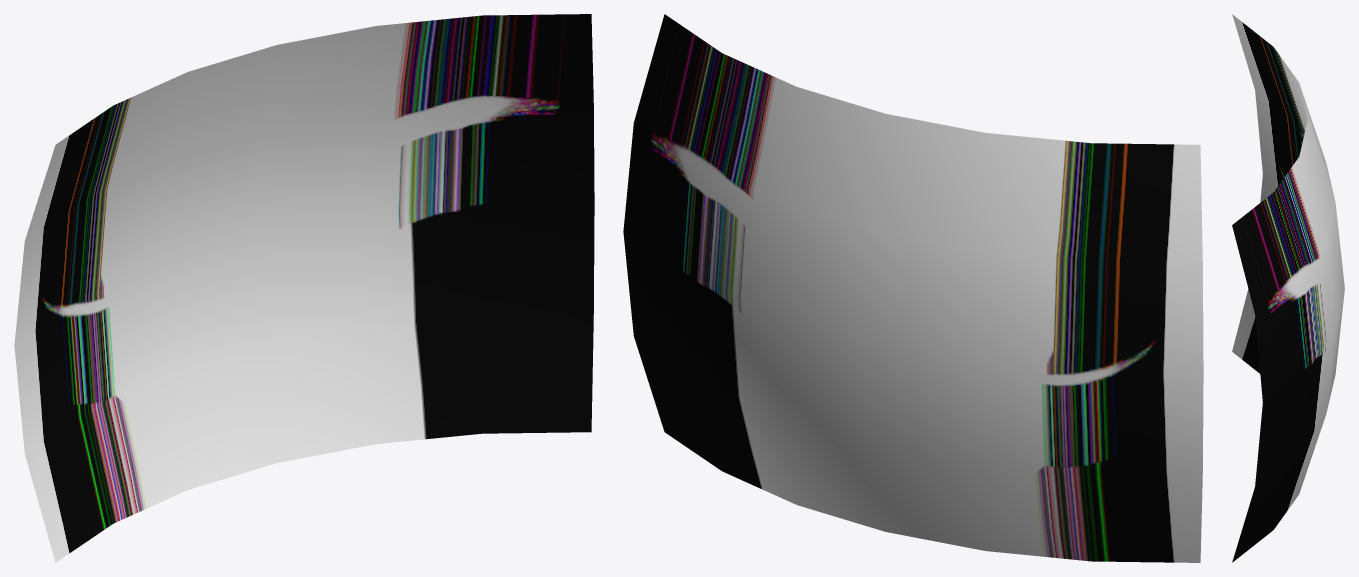
Rendered from Wisp_C.fbx.
3 views of the same model, side by side, from view 1: azimuth 30°, elevation 25°; view 2: azimuth 150°, elevation 25°; view 3: azimuth 270°, elevation 25° (orthographic). The views are drawn at different scales.
Visible parts, largest first — view 1: Wisp_C; view 2: Wisp_C; view 3: Wisp_C.
Part boxes in pixels (left/top/right/bottom): Wisp_C: left=14, top=14, right=594, bottom=562; Wisp_C: left=623, top=14, right=1203, bottom=562; Wisp_C: left=1232, top=14, right=1344, bottom=562.
Bounding box in the file's own units: 120 × 82.52 × 25.
